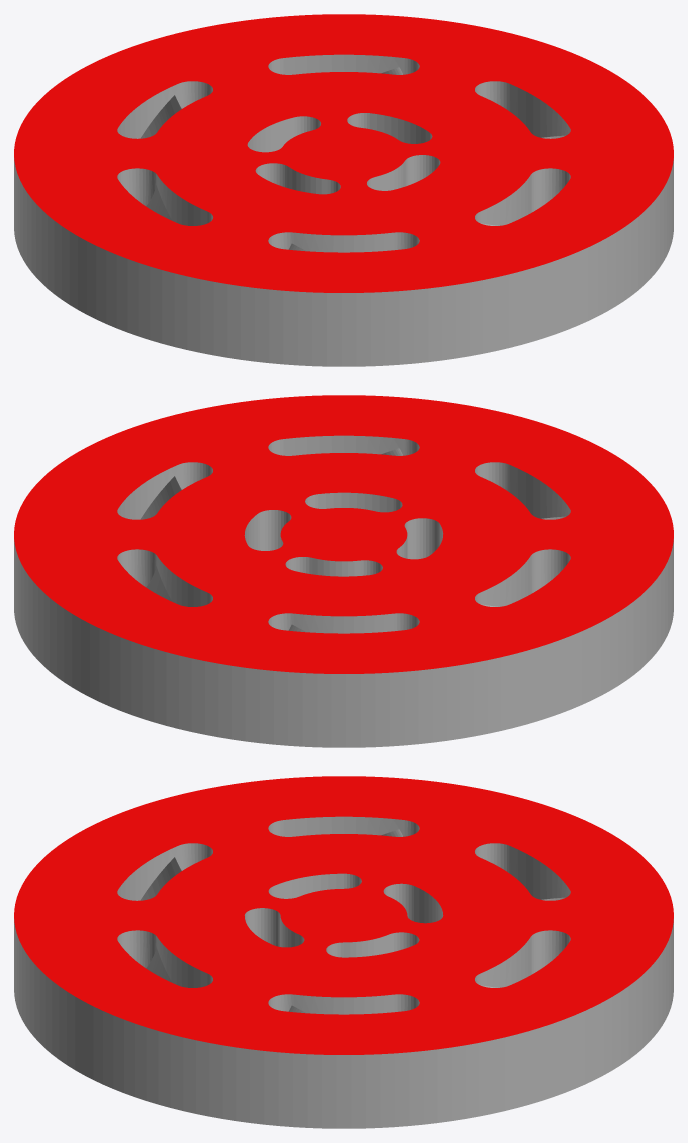
The model's file is flange_v2_STEP_32.obj.
The picture shows the model from 3 angles, top to bottom: view 1: azimuth 30°, elevation 25°; view 2: azimuth 150°, elevation 25°; view 3: azimuth 270°, elevation 25°; orthographic projection.
Visible parts, largest first — view 1: Object1; view 2: Object1; view 3: Object1.
Part boxes in pixels (bbox=[...]): Object1: bbox=[14, 14, 673, 366]; Object1: bbox=[14, 395, 673, 747]; Object1: bbox=[14, 776, 673, 1128].
Size of the model in its own units: 406 by 50 by 406.
